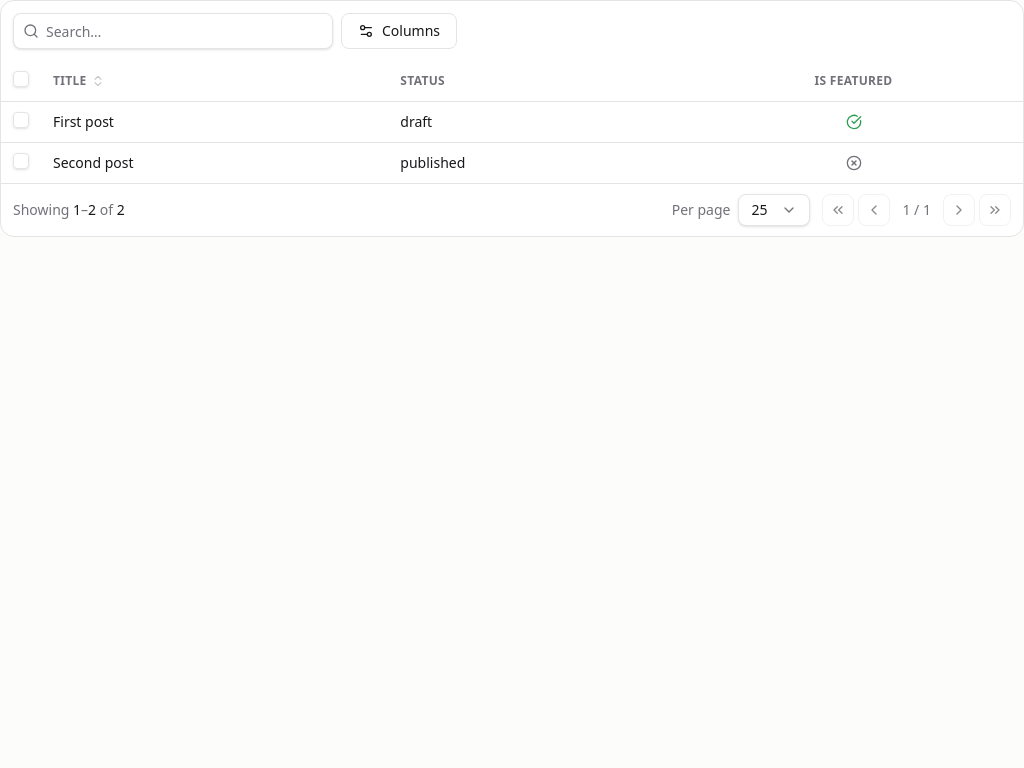
Scenario: row selection and bulk actions › clears the selection from the bulk bar
Check: the text "First post" is shown, box [53,112,114,132]
Click the checkbox named "Select row 1" at (21, 120), box [13,112,29,128]
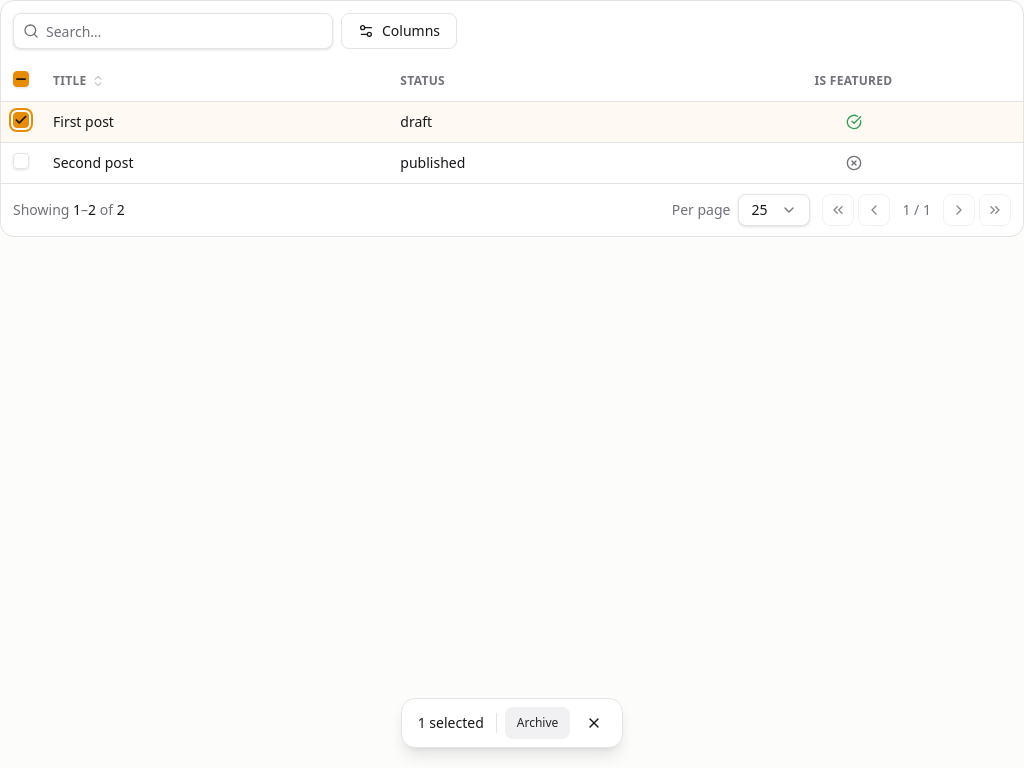
Check: the text "1 selected" is shown, box [414,713,488,733]
Click the button named "Clear selection" at (594, 723), box [578,707,610,739]
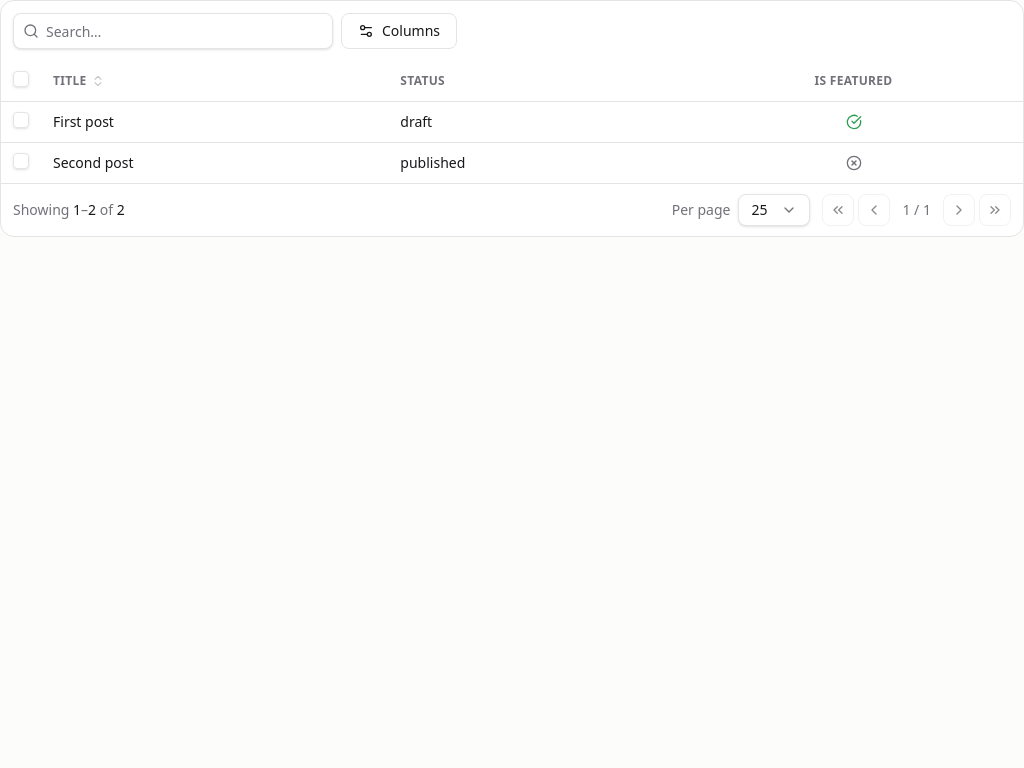
Check: the text "1 selected" is gone
